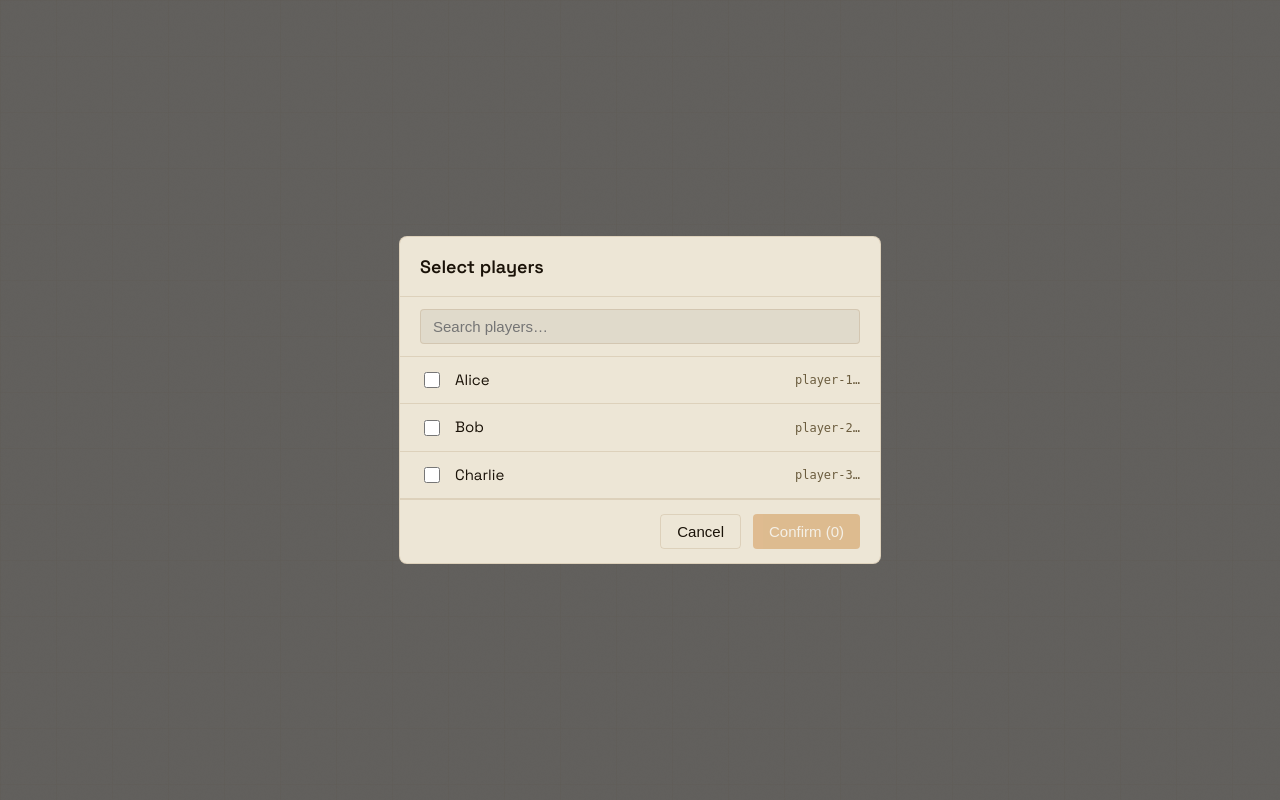
Test case: PlayerSelectModal › filters players after debounce (200 ms)
The width and height of the screenshot is (1280, 800).
Type "al" into the field labelled "Search players" at (640, 326), box [420, 309, 860, 344]
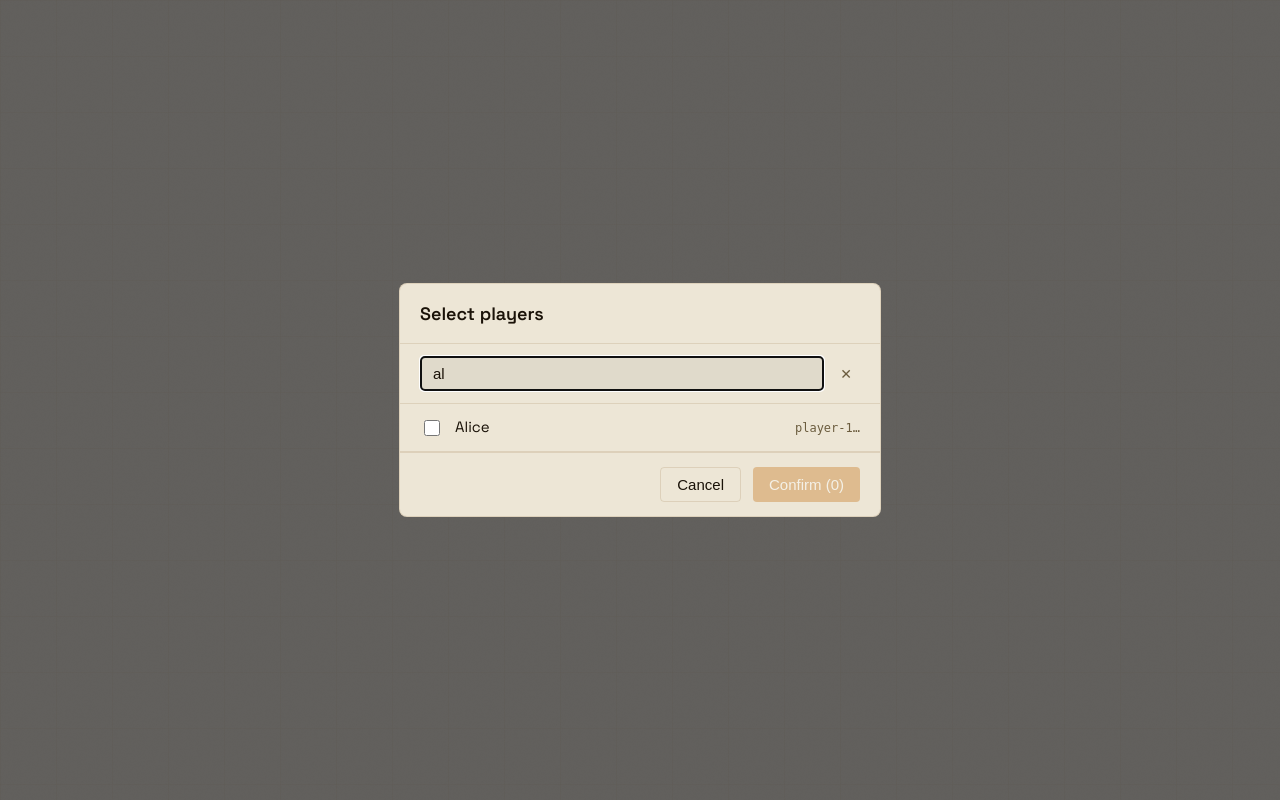
Expected: the text "Alice" is shown, [455, 417, 490, 436]
Expected: the text "Bob" is gone
Expected: the text "Charlie" is gone
